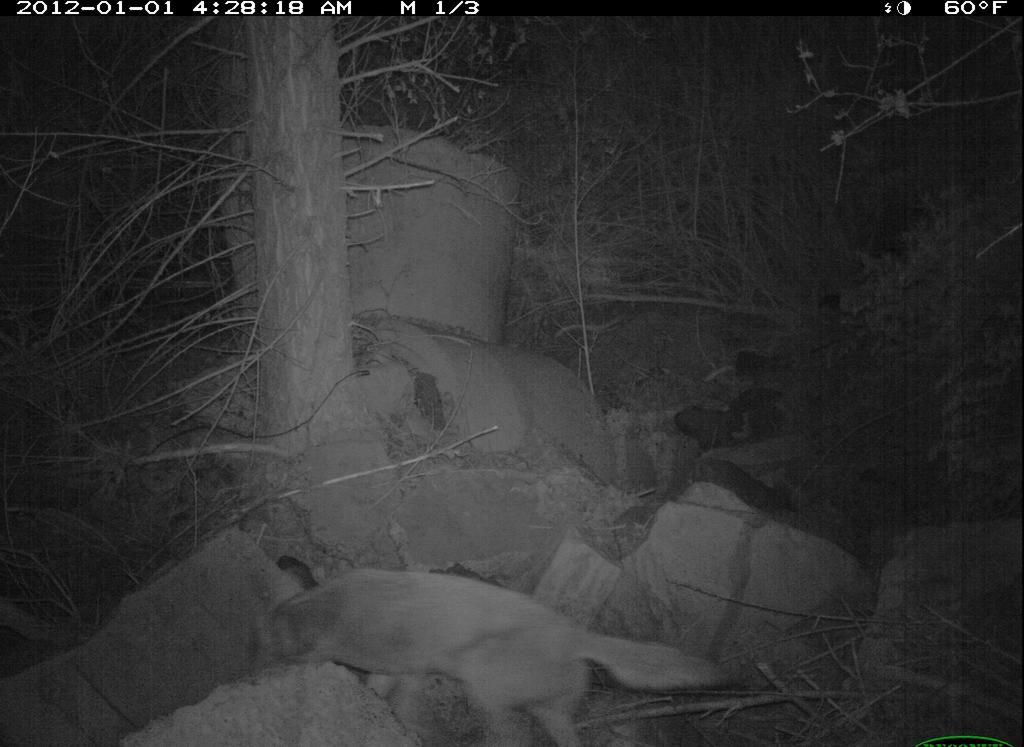coyote: (231, 538, 729, 731)
